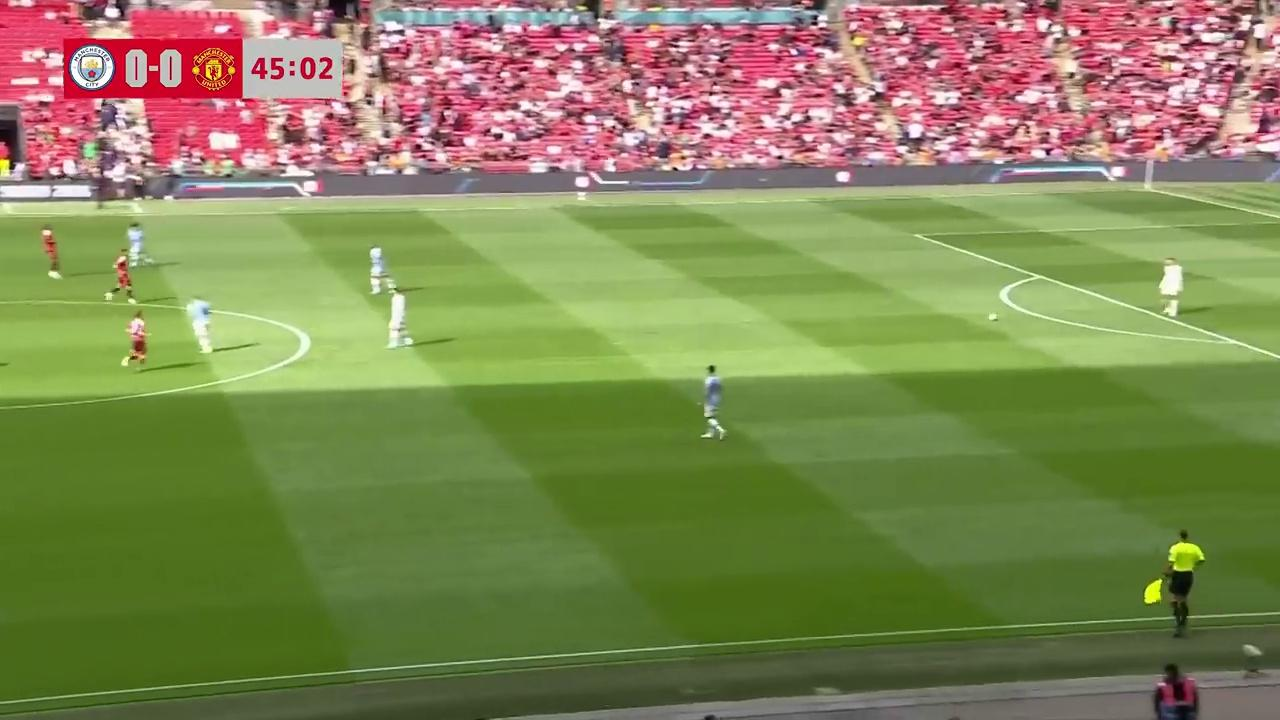ball: (990, 309, 1001, 324)
player: (699, 364, 727, 440), (120, 310, 150, 370), (1158, 256, 1184, 319), (187, 295, 213, 355), (386, 287, 410, 349), (107, 251, 135, 303), (40, 227, 61, 278), (368, 244, 387, 295), (127, 222, 145, 266)
referee: (1157, 528, 1206, 637)
